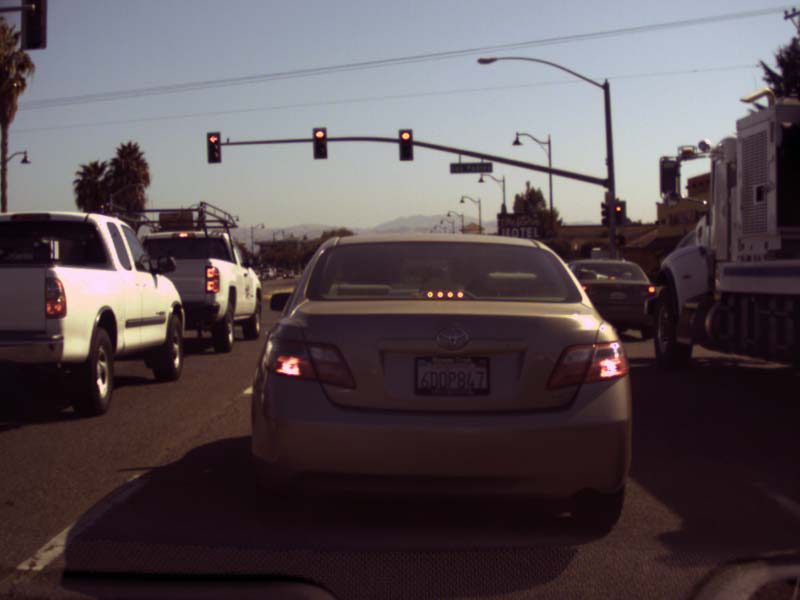Red: (312, 126, 327, 158), (398, 129, 413, 160), (206, 132, 221, 162), (614, 202, 623, 224)
